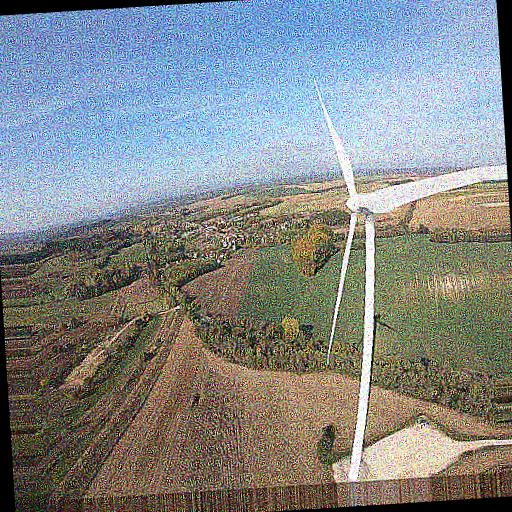wind turbine: (312, 77, 512, 475)
